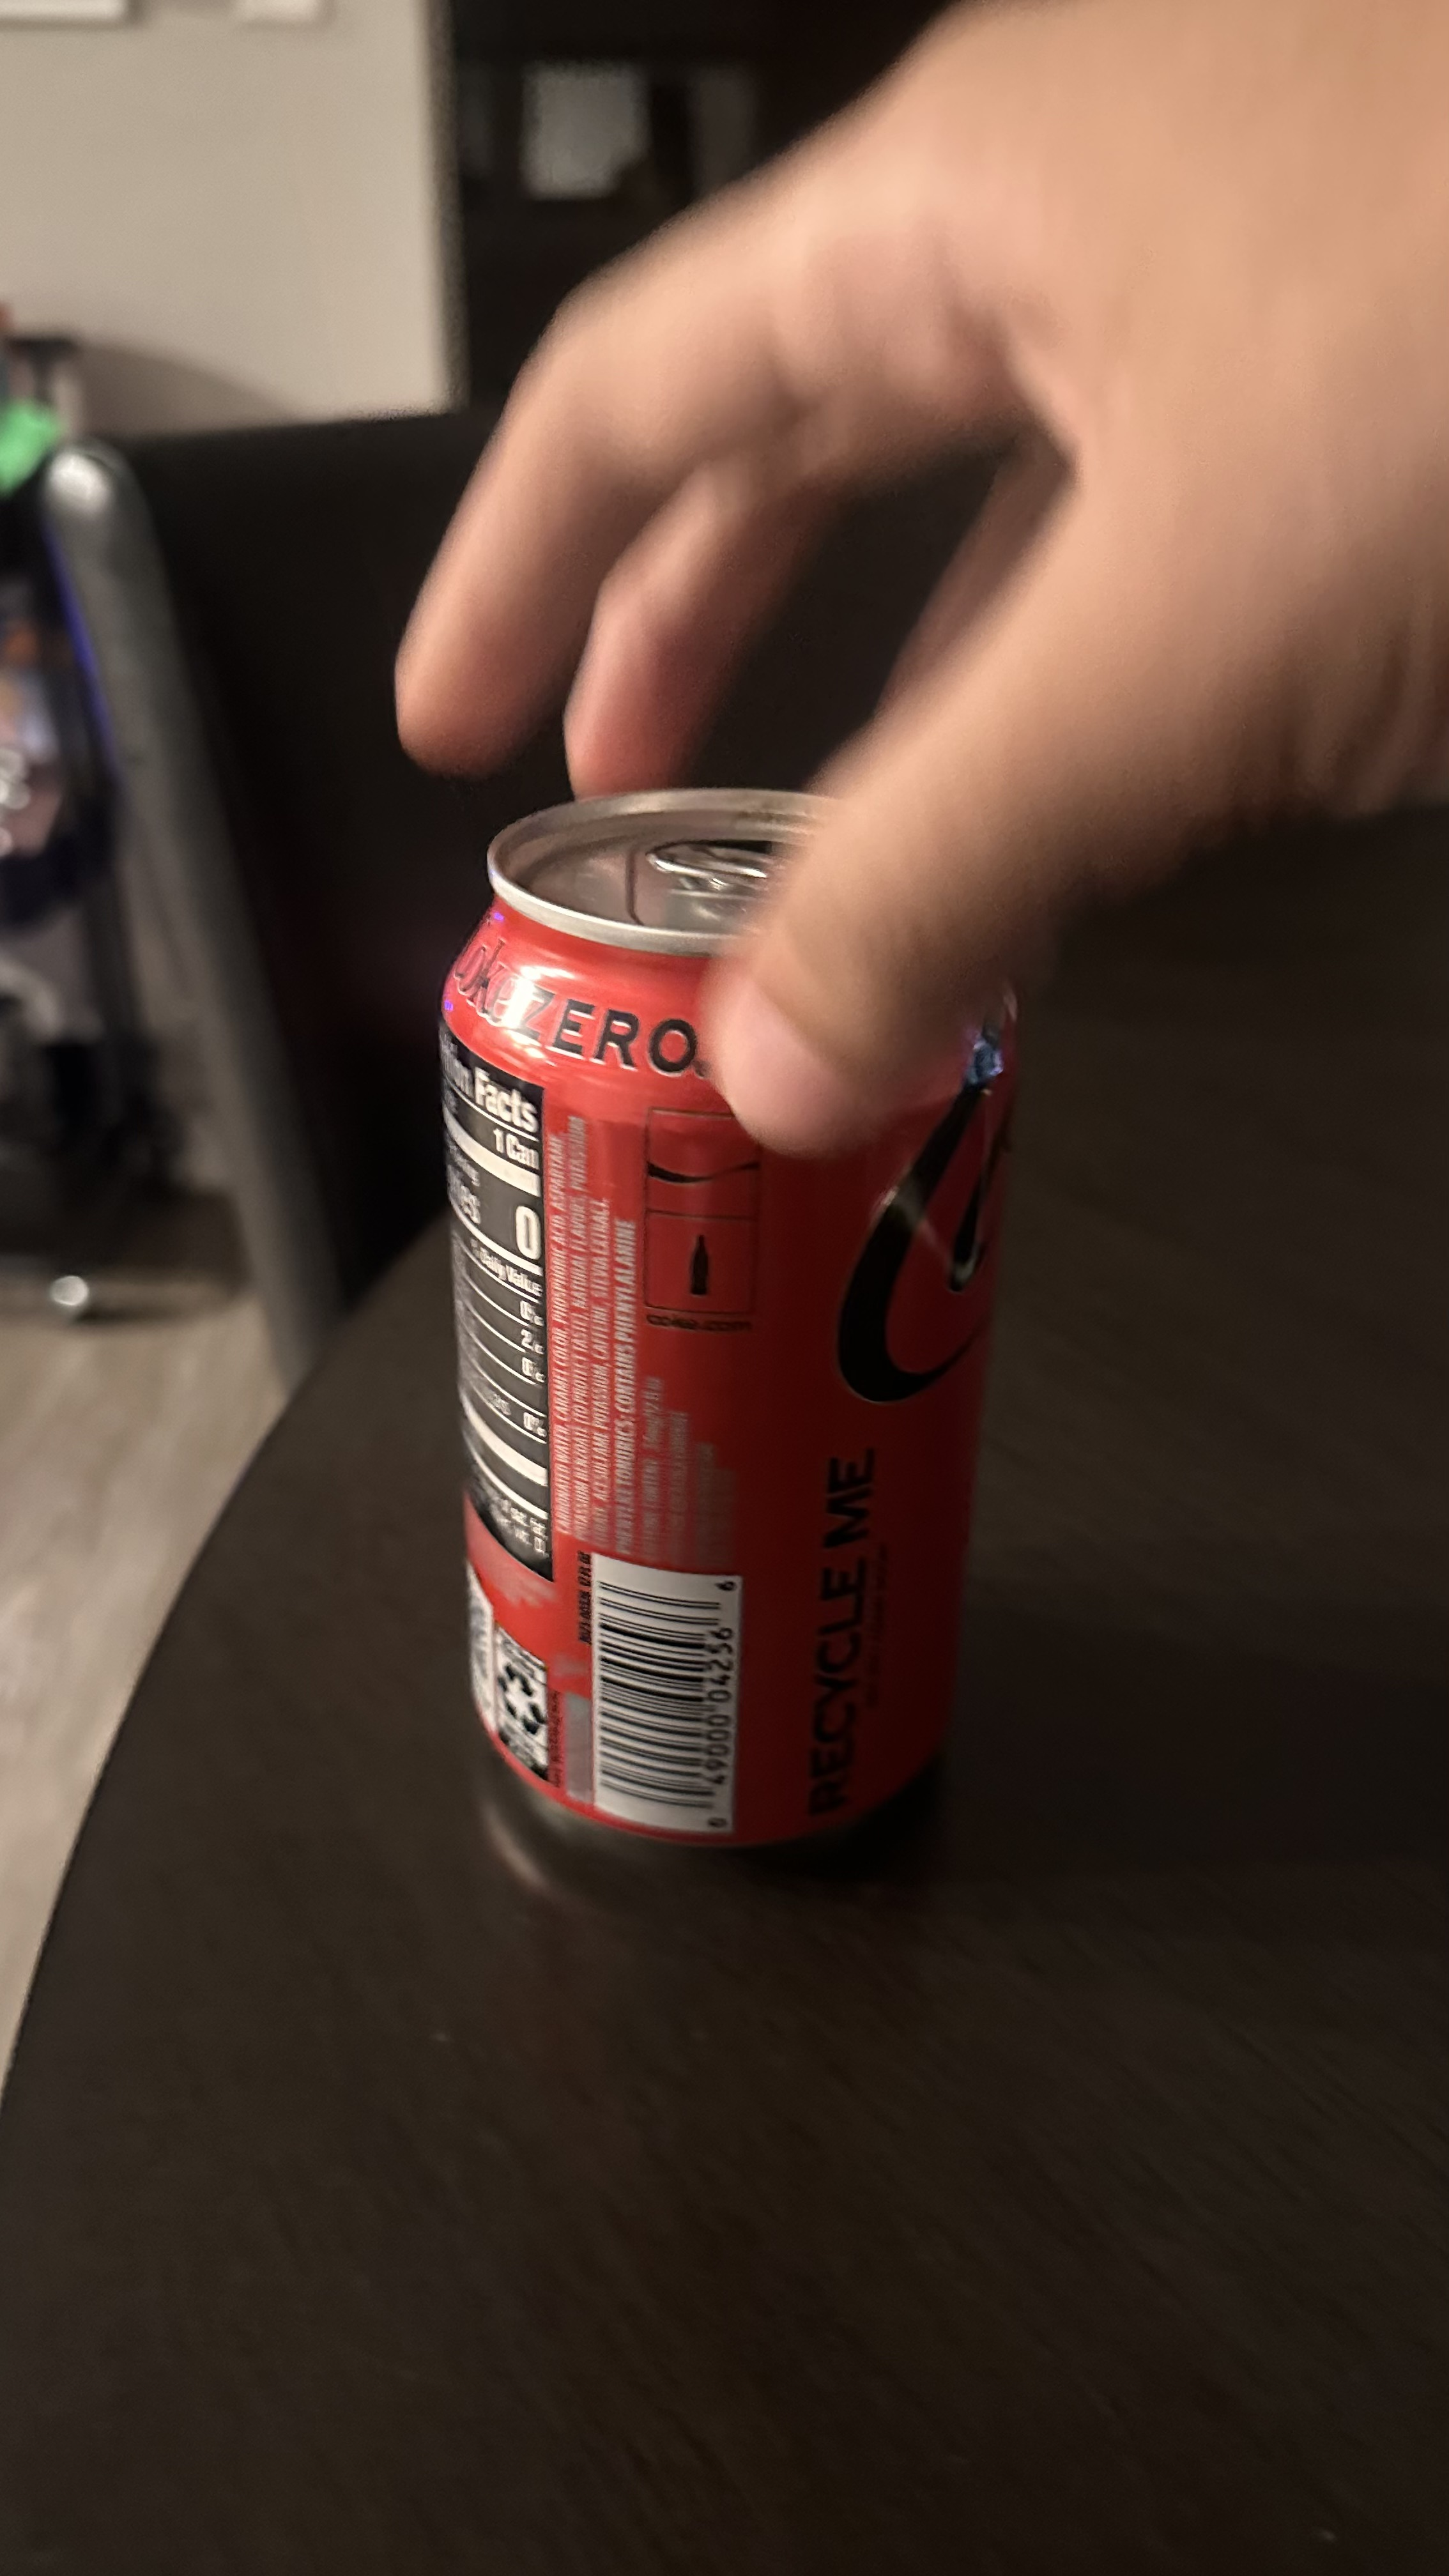Coke Zero: (419, 780, 1026, 1851)
